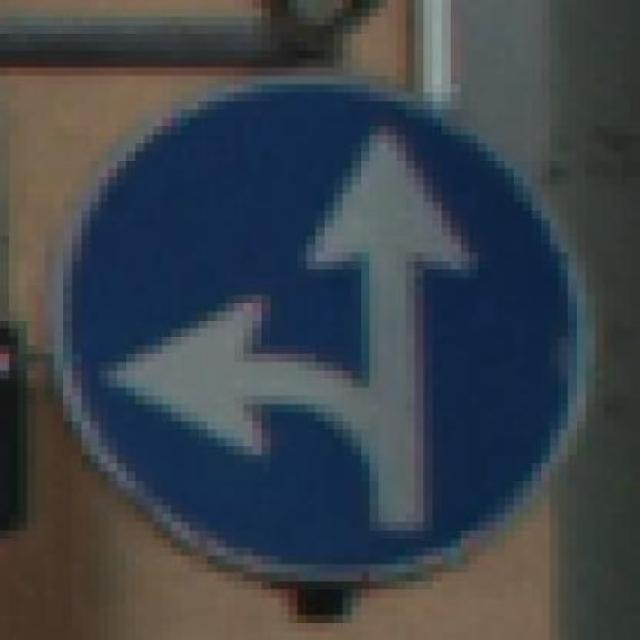Go straight or turn left: (36, 67, 613, 607)
